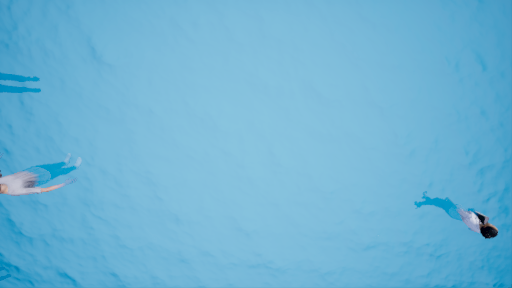person: (406, 188, 506, 243), (1, 160, 87, 199)
